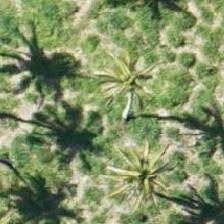coconut_tree: (71, 29, 161, 119), (87, 129, 177, 219)
